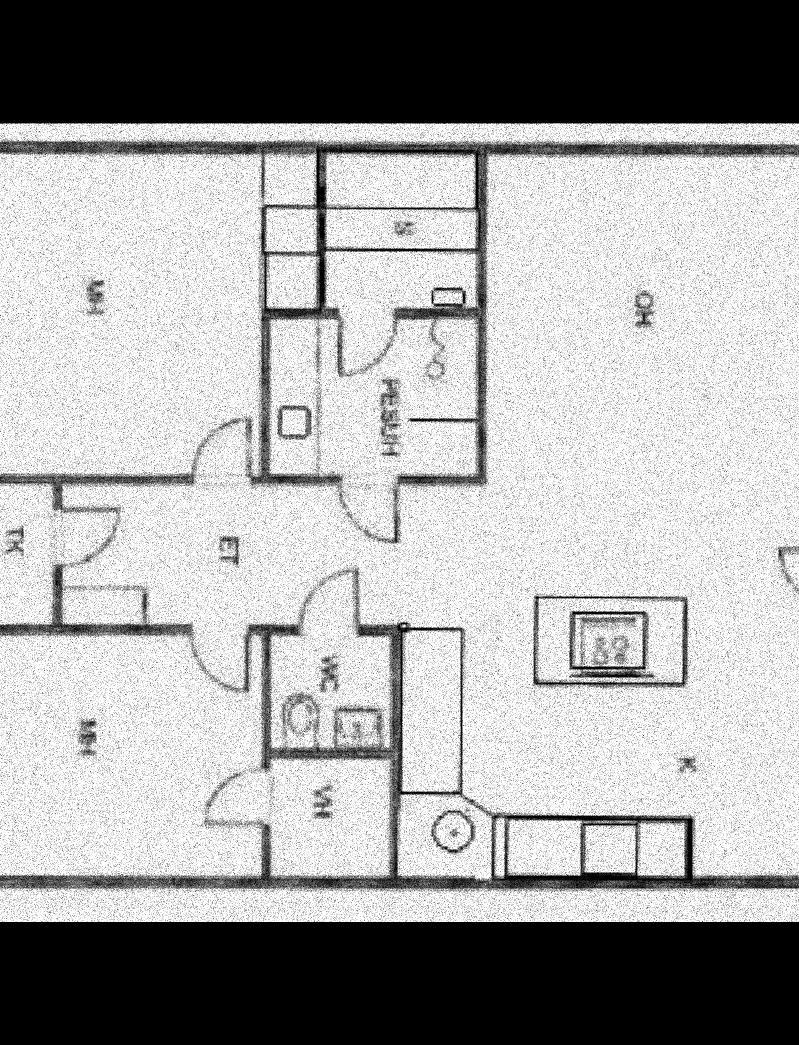door: (63, 156, 799, 875), (0, 153, 262, 477), (0, 632, 268, 875), (268, 151, 483, 313), (268, 317, 477, 471), (272, 757, 392, 880), (269, 637, 392, 746), (0, 483, 52, 622)
window: (333, 308, 399, 381), (295, 567, 361, 639), (198, 766, 271, 831), (191, 414, 252, 483), (55, 504, 120, 565), (345, 469, 396, 546), (190, 625, 248, 692), (770, 541, 799, 610)
